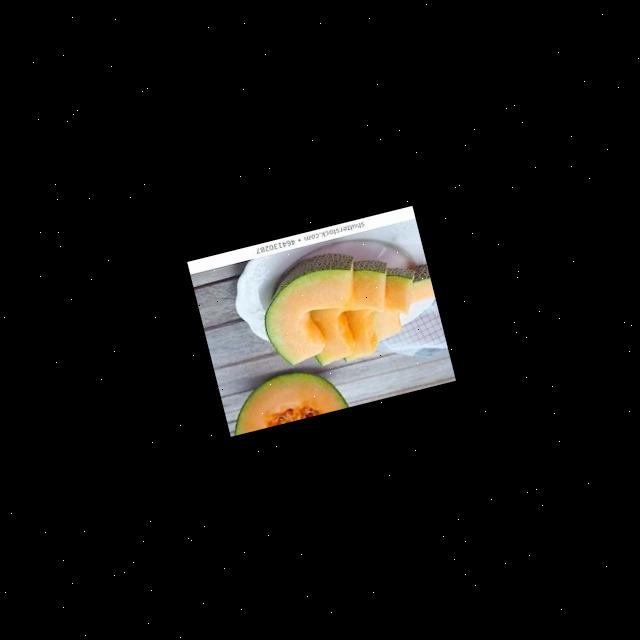Hami Melon: (248, 247, 370, 368), (294, 257, 402, 365), (325, 264, 425, 360), (222, 360, 348, 434)
